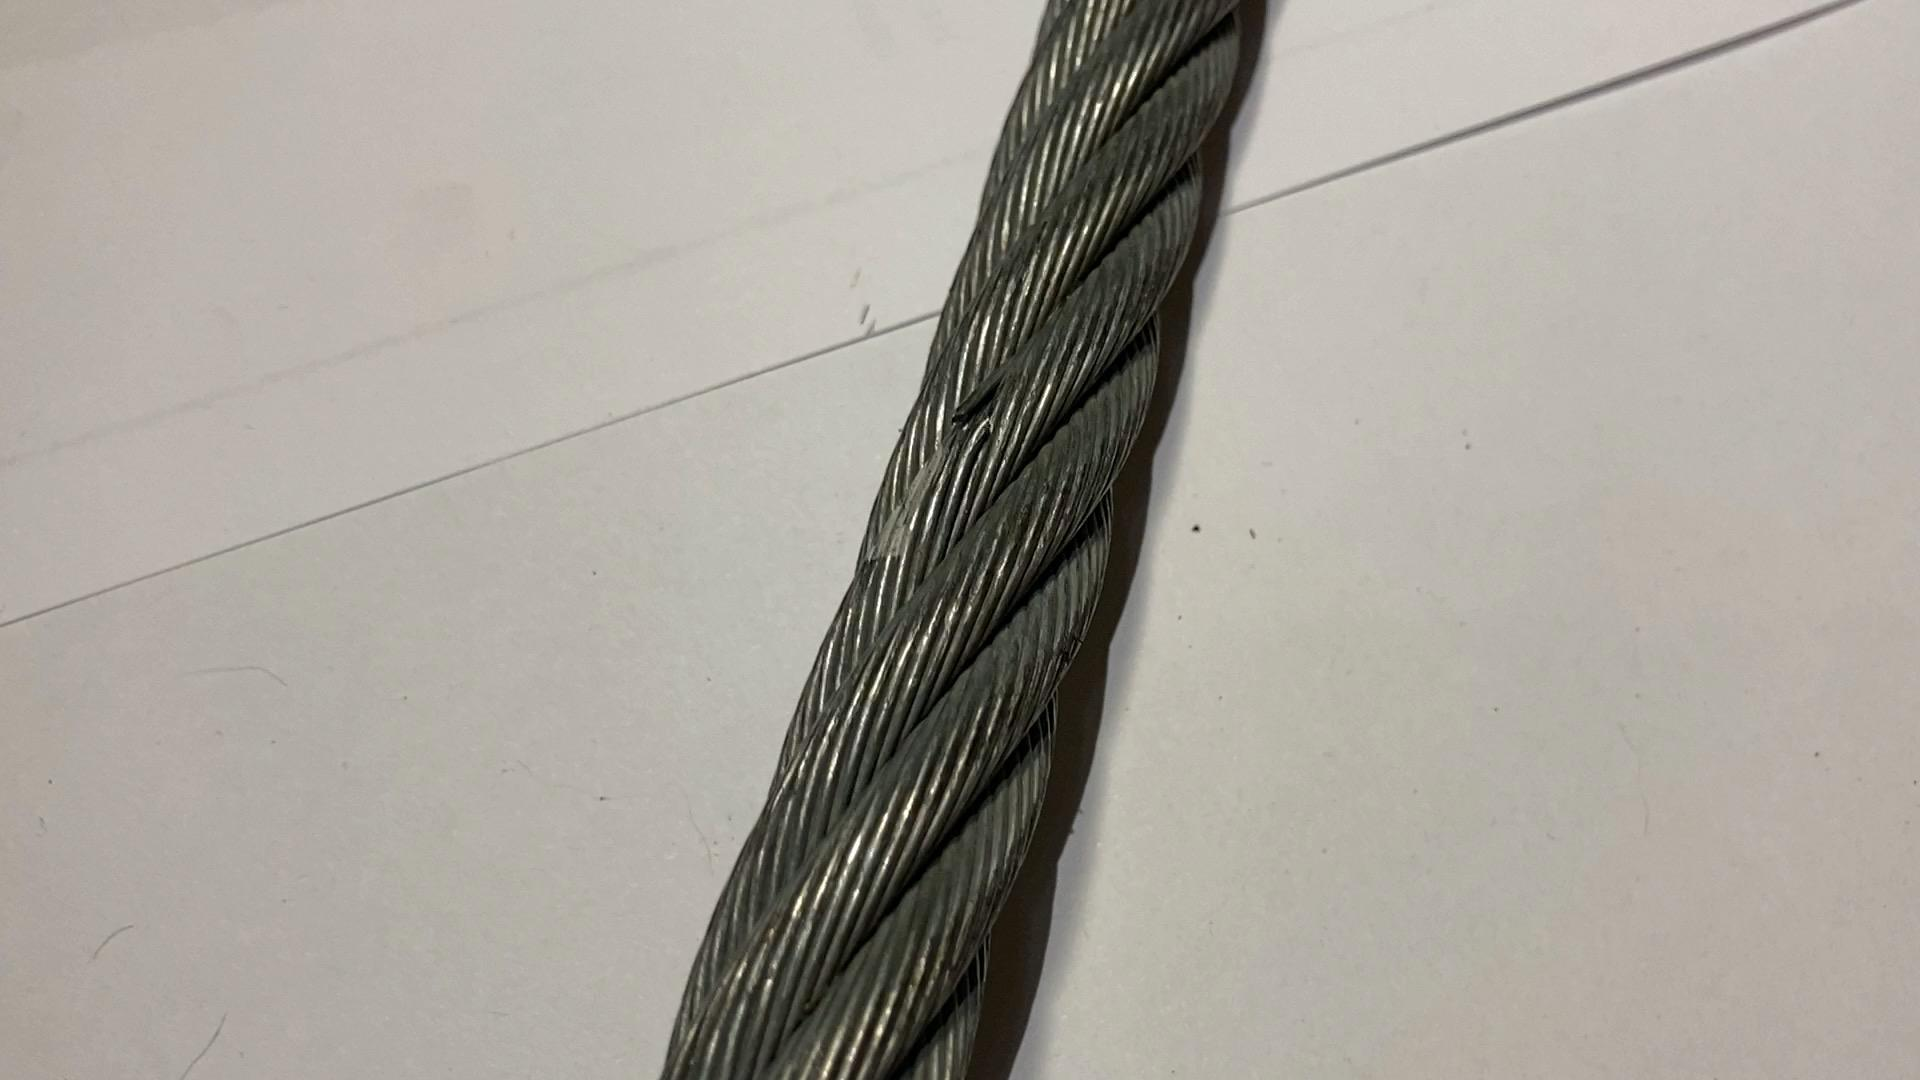break: (940, 371, 1006, 446)
